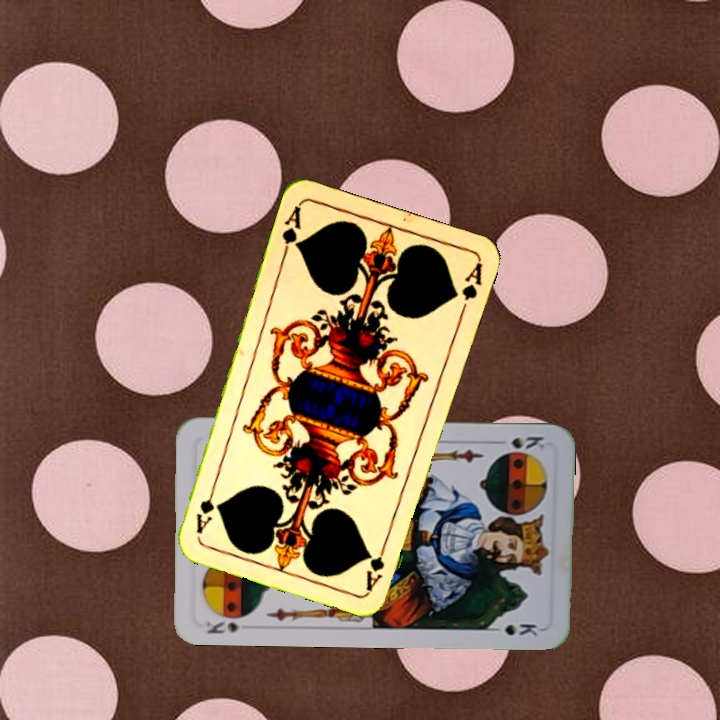GA: (362, 535, 391, 593), (277, 201, 304, 260)
SK: (490, 432, 549, 452), (202, 616, 241, 637)
